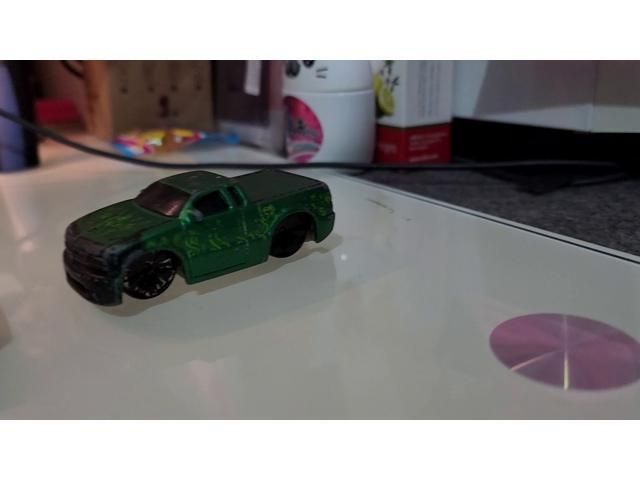toy-car: (62, 168, 336, 308)
